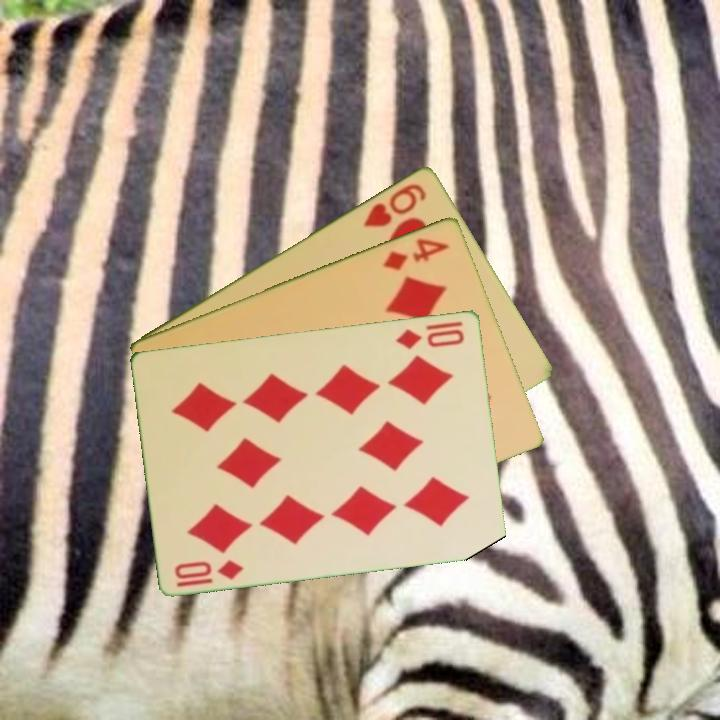10d: (392, 324, 468, 352), (171, 555, 247, 582)
4d: (379, 234, 453, 273)
6h: (360, 179, 430, 230)
